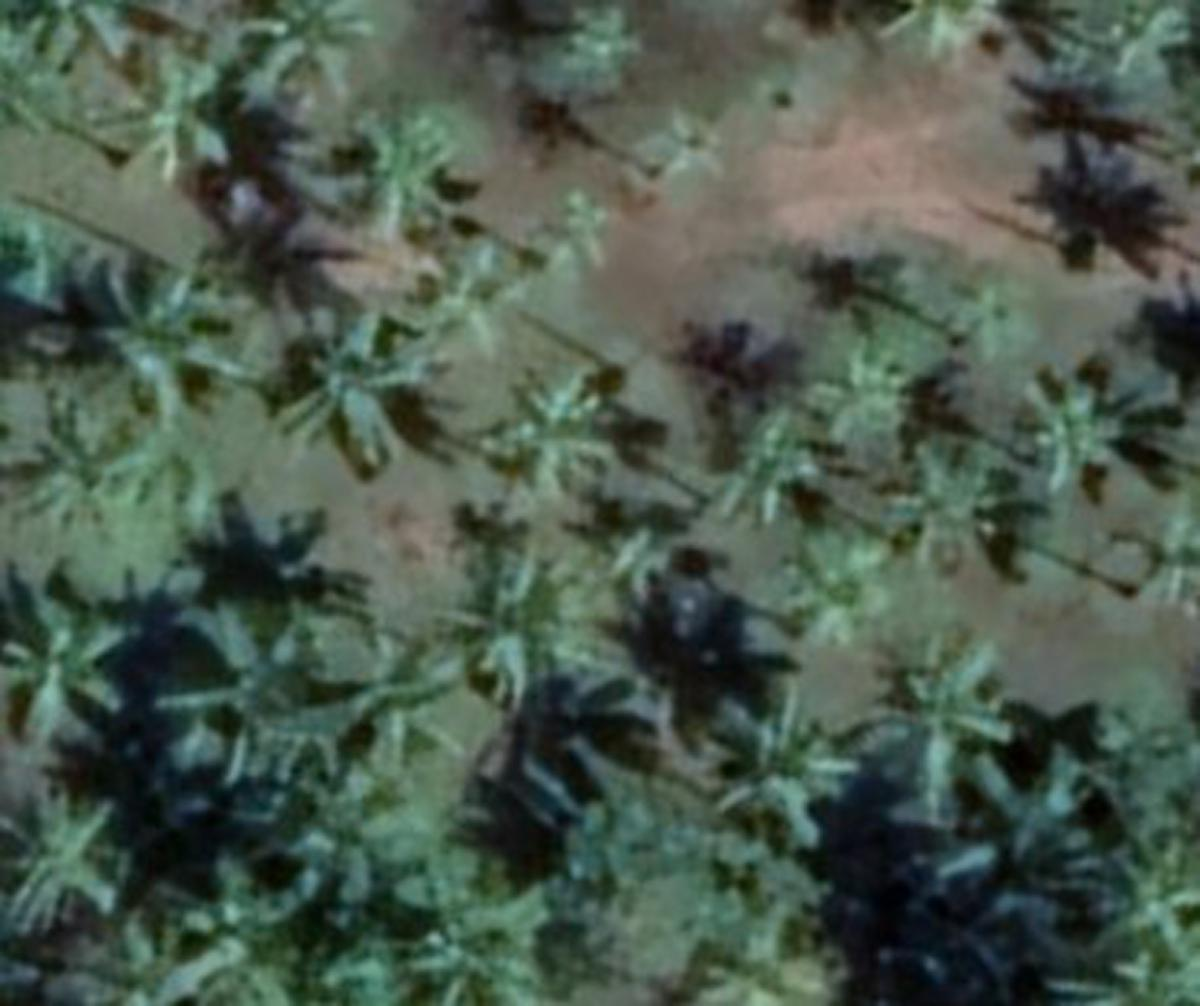coconut: (889, 637, 1035, 792), (284, 313, 426, 465), (711, 682, 853, 831), (3, 614, 152, 753), (100, 262, 242, 407), (3, 795, 148, 931), (16, 401, 164, 530), (462, 553, 601, 688), (494, 368, 611, 511), (339, 106, 459, 242), (779, 524, 908, 646), (113, 45, 232, 177), (708, 401, 811, 540), (1015, 371, 1138, 481), (423, 239, 546, 346), (902, 443, 1022, 549)
